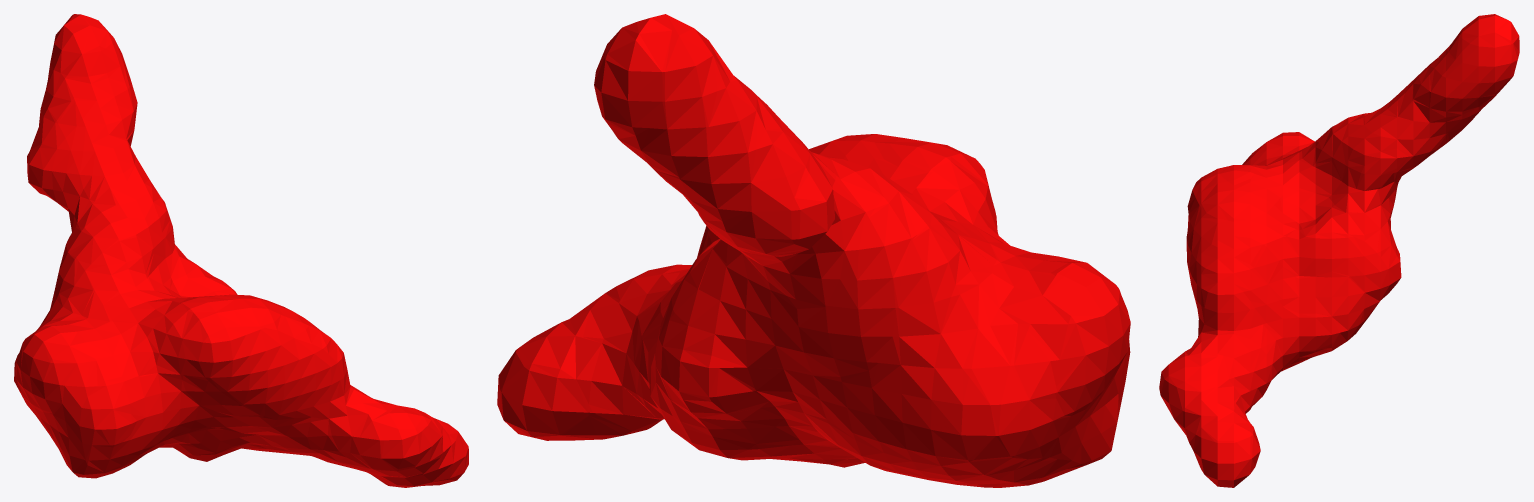
The model's file is holE_coarse.dae.
3 renders of one model, left to right at view 1: azimuth 30°, elevation 25°; view 2: azimuth 150°, elevation 25°; view 3: azimuth 270°, elevation 25°, orthographic. The views are drawn at different scales.
Visible parts, largest first — view 1: holE; view 2: holE; view 3: holE.
Part boxes in pixels (left/top/right/bottom): holE: left=14, top=14, right=468, bottom=487; holE: left=497, top=14, right=1130, bottom=487; holE: left=1159, top=14, right=1519, bottom=487.
Size of the model in its own units: 55.47 by 53.79 by 47.11.
